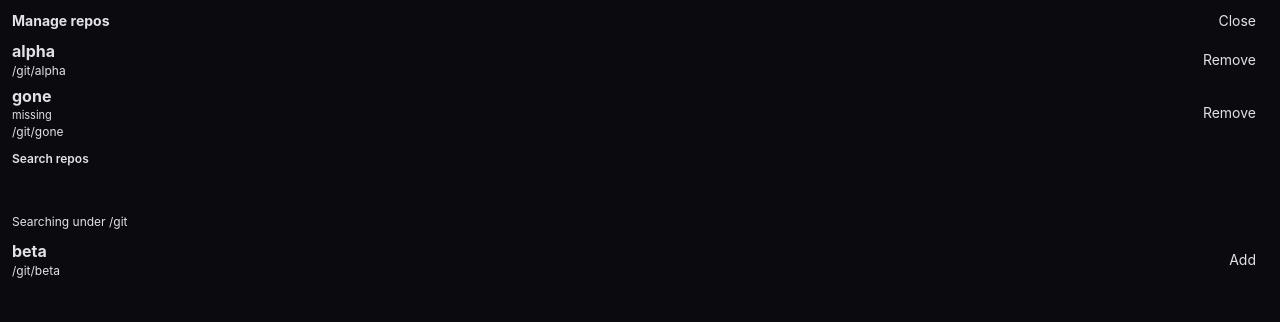
RepoPicker › shows an add error and does not report a change
Click the button with aria-label "Add beta": (1243, 260) [1217,251,1268,268]
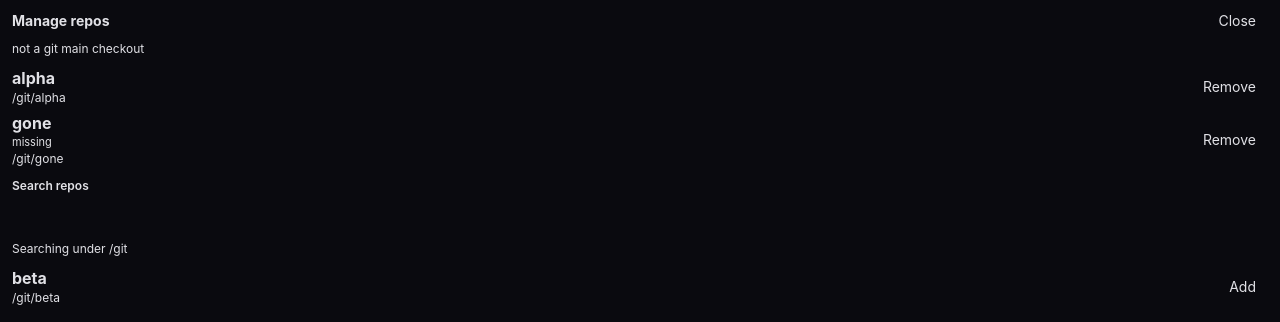
Expected: the text "not a git main checkout" is shown, [12,41,144,56]
